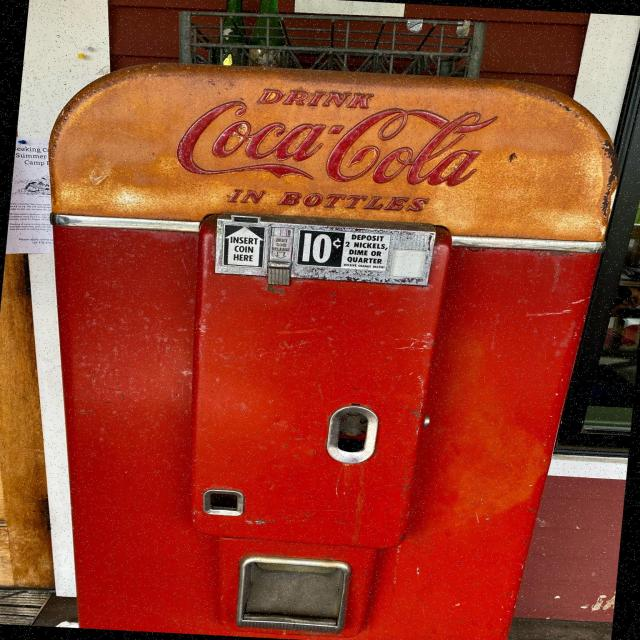coca-cola: (162, 82, 510, 199)
